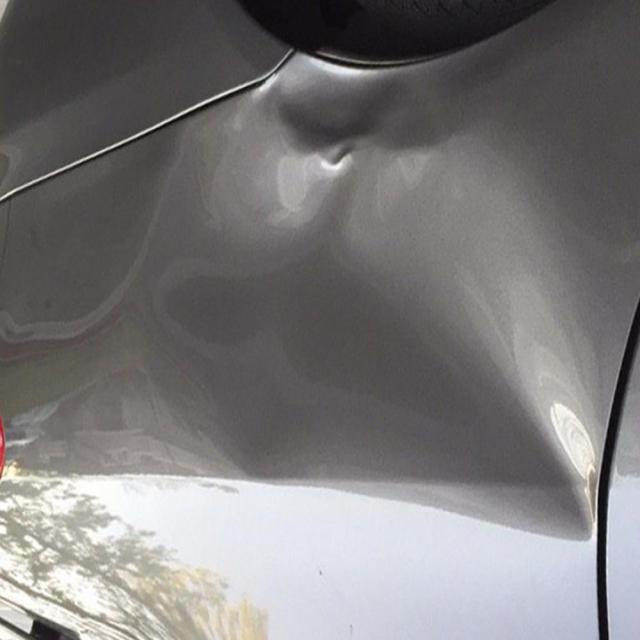dent: (144, 56, 602, 524)
